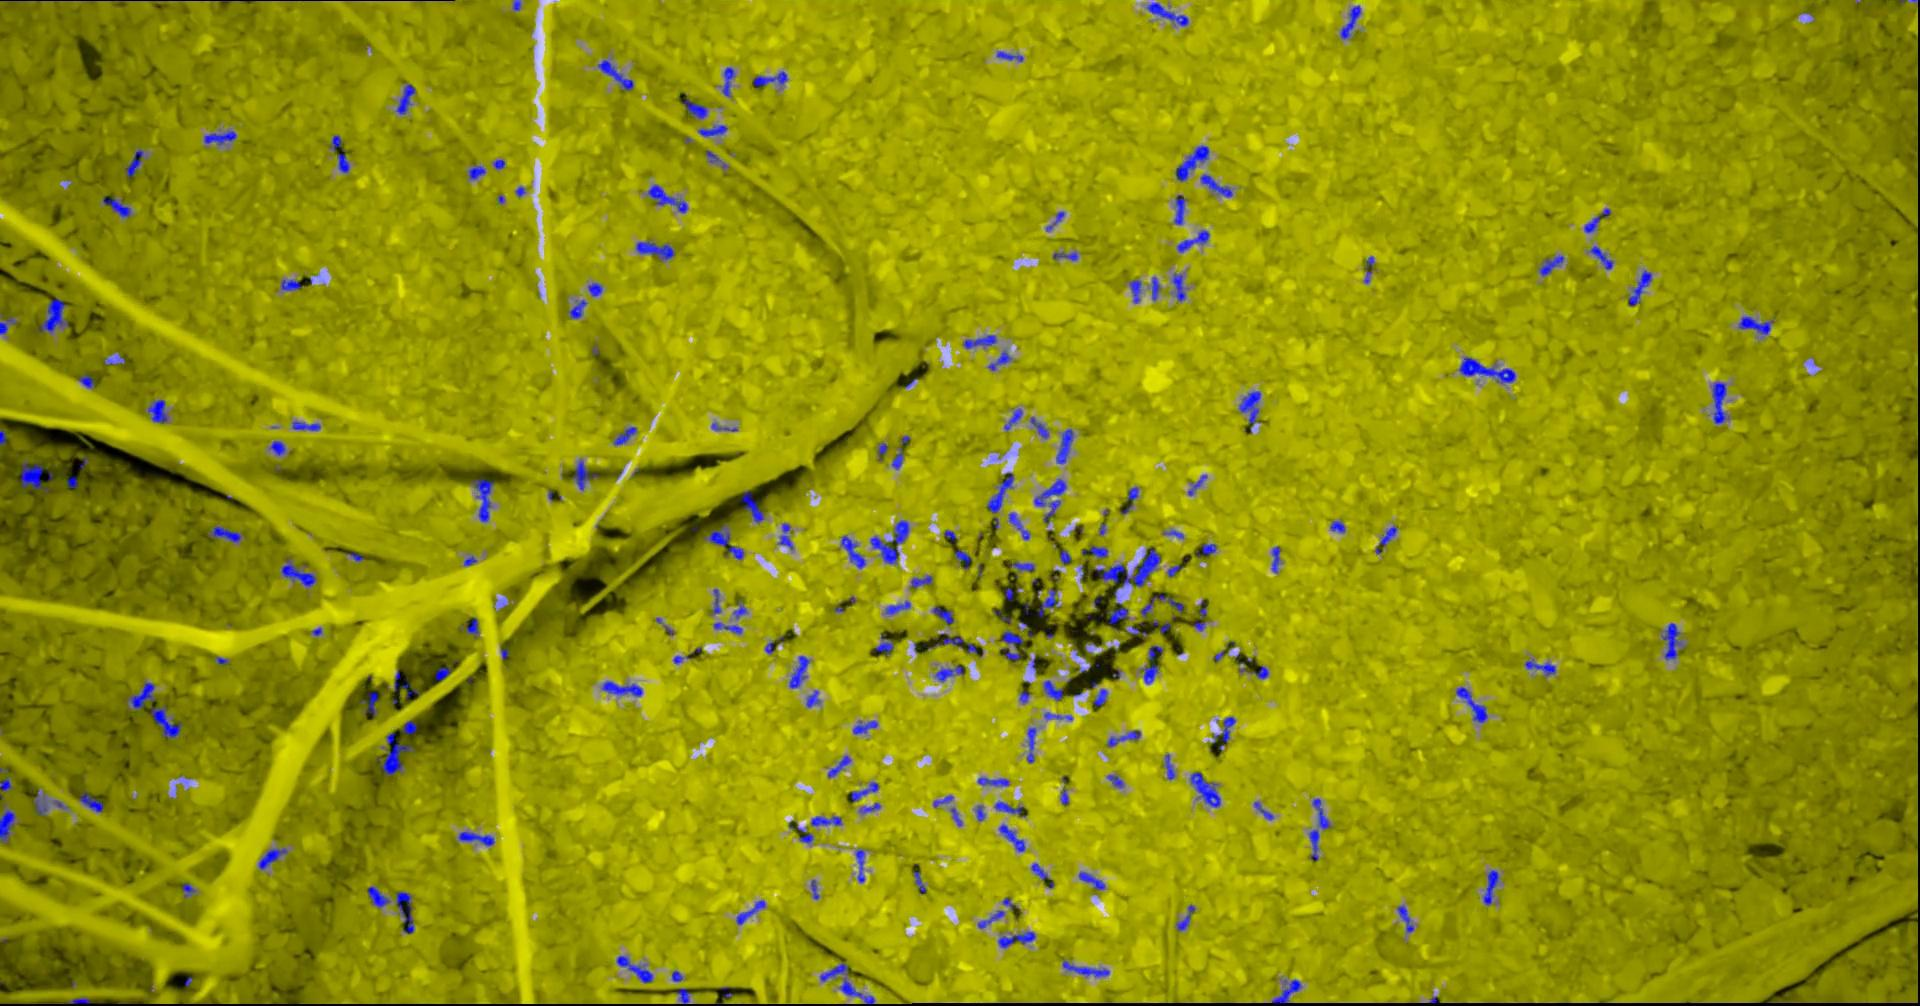ant: (1096, 547, 1162, 587), (822, 962, 876, 1005), (871, 520, 910, 563), (1460, 356, 1517, 384), (1035, 478, 1068, 523), (705, 525, 745, 559), (383, 732, 415, 775), (1177, 145, 1210, 180), (1457, 686, 1490, 721), (649, 184, 690, 212), (37, 297, 70, 332), (599, 58, 635, 90), (1191, 771, 1222, 807), (151, 705, 183, 738), (472, 478, 497, 521), (989, 473, 1015, 512), (282, 558, 317, 586), (1148, 3, 1190, 25), (1239, 390, 1262, 432), (618, 955, 654, 982), (1142, 594, 1185, 616), (22, 460, 50, 492), (573, 459, 599, 489), (843, 535, 867, 568), (1213, 716, 1237, 749), (1630, 271, 1653, 305), (1064, 959, 1111, 976), (1002, 630, 1027, 661), (1144, 645, 1164, 683), (1272, 979, 1303, 1005), (1178, 229, 1211, 251), (128, 682, 156, 709), (397, 890, 415, 932), (737, 899, 767, 923), (1203, 174, 1234, 197), (637, 240, 676, 259), (742, 490, 764, 522), (790, 655, 811, 688), (396, 669, 420, 699), (331, 135, 350, 171), (1663, 622, 1683, 659), (1057, 428, 1076, 464), (1001, 824, 1026, 851), (1342, 5, 1363, 38), (603, 680, 644, 696), (1740, 316, 1775, 334), (260, 847, 290, 869), (999, 931, 1037, 948), (1714, 382, 1730, 423), (397, 83, 417, 114), (1313, 798, 1332, 829), (104, 196, 132, 217), (1109, 602, 1130, 630), (1591, 245, 1615, 269), (790, 821, 815, 843), (1010, 512, 1031, 539), (1377, 526, 1398, 553), (1039, 588, 1059, 616), (851, 782, 880, 801), (1032, 862, 1055, 887), (210, 526, 243, 542), (1484, 869, 1500, 904), (754, 71, 789, 86), (829, 754, 852, 777), (1540, 254, 1564, 276), (460, 831, 497, 845), (979, 909, 1006, 929), (1526, 659, 1557, 676), (1109, 730, 1142, 746), (1, 809, 17, 842), (127, 149, 145, 177), (149, 399, 169, 423), (1177, 904, 1196, 930), (936, 664, 965, 681), (964, 334, 998, 348), (682, 100, 709, 118), (1123, 486, 1140, 513), (1079, 871, 1106, 889), (204, 130, 237, 144), (996, 801, 1029, 815), (989, 351, 1013, 370), (361, 691, 380, 715), (81, 791, 105, 810), (370, 887, 391, 907), (1004, 408, 1023, 431), (615, 426, 637, 445), (876, 633, 895, 655), (935, 633, 965, 647), (1399, 904, 1415, 932), (1189, 474, 1208, 495), (1175, 194, 1189, 224), (780, 523, 795, 549), (1195, 600, 1208, 630), (460, 617, 480, 636), (1045, 680, 1064, 700), (1032, 417, 1050, 438), (1173, 273, 1187, 300), (36, 789, 50, 815), (723, 67, 735, 97), (707, 150, 728, 168), (1255, 801, 1275, 819), (698, 124, 729, 136), (888, 600, 912, 614), (855, 720, 879, 734), (935, 606, 955, 622), (1083, 545, 1109, 558), (811, 815, 843, 826), (1365, 255, 1377, 283), (1029, 727, 1037, 762), (571, 298, 588, 318), (293, 420, 323, 431), (1310, 829, 1321, 859), (1585, 215, 1601, 232), (857, 848, 866, 882), (893, 446, 905, 469), (956, 549, 971, 568), (1197, 542, 1218, 556), (715, 622, 743, 633), (1131, 279, 1143, 304), (916, 870, 928, 892), (998, 51, 1025, 61), (470, 164, 488, 179), (1, 316, 17, 334), (1, 776, 13, 799), (1045, 711, 1074, 720), (1272, 546, 1283, 572), (1011, 561, 1036, 572), (1166, 753, 1176, 779), (678, 988, 693, 1005), (1095, 688, 1109, 706), (808, 690, 822, 708), (912, 575, 933, 587), (735, 600, 748, 619), (272, 439, 287, 455), (979, 777, 1010, 785), (80, 373, 97, 387), (436, 666, 452, 680), (1109, 774, 1125, 788), (1054, 251, 1079, 260), (714, 588, 723, 614), (105, 354, 127, 365), (861, 801, 883, 812), (1153, 276, 1162, 300), (589, 282, 604, 296), (403, 720, 418, 734), (1253, 666, 1270, 678), (183, 882, 197, 895), (283, 279, 302, 290), (1004, 587, 1020, 600), (879, 442, 889, 460), (1332, 520, 1346, 532), (69, 997, 91, 1005), (1062, 549, 1072, 563)
